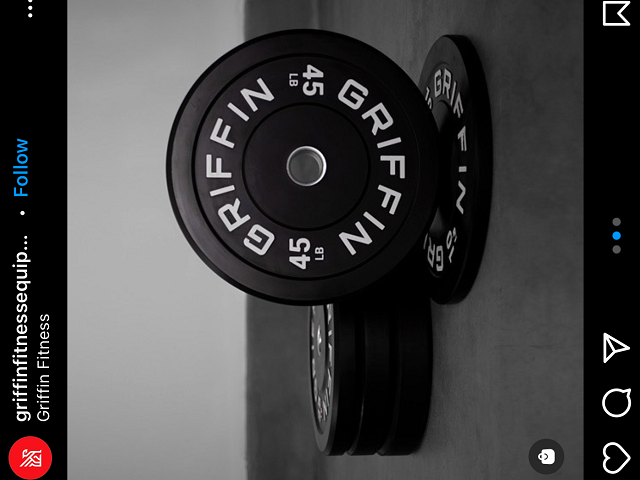weights: (163, 28, 444, 307), (418, 31, 496, 306), (306, 302, 435, 455)
